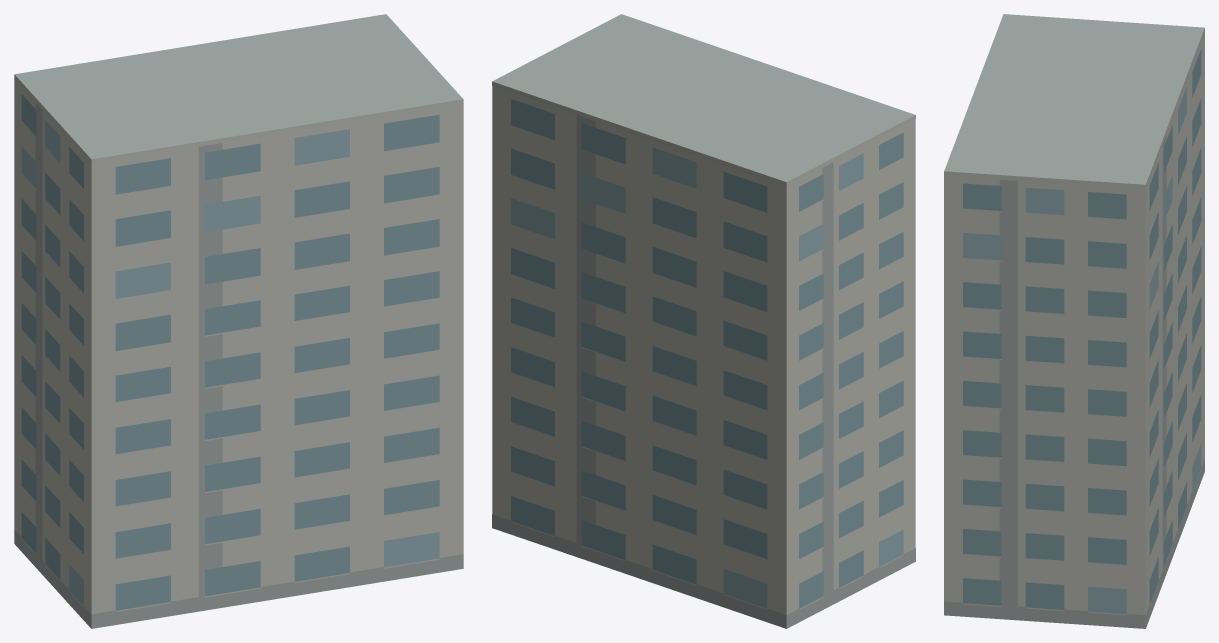
Rendered from residential-10277851-93be-4ff6-84cf-0546b14b9ec6.glb.
The picture shows the model from 3 angles, left to right: view 1: azimuth 30°, elevation 25°; view 2: azimuth 150°, elevation 25°; view 3: azimuth 270°, elevation 25°; orthographic projection. The views are drawn at different scales.
Parts seen in each view (by area): view 1: residential-10277851-93be-4ff6-84cf-0546b14b9ec6.tmp; view 2: residential-10277851-93be-4ff6-84cf-0546b14b9ec6.tmp; view 3: residential-10277851-93be-4ff6-84cf-0546b14b9ec6.tmp.
Part boxes in pixels (x1,y1,x2,y2): residential-10277851-93be-4ff6-84cf-0546b14b9ec6.tmp: [14, 14, 463, 628]; residential-10277851-93be-4ff6-84cf-0546b14b9ec6.tmp: [492, 14, 915, 628]; residential-10277851-93be-4ff6-84cf-0546b14b9ec6.tmp: [944, 14, 1204, 628].
Bounding box in the file's own units: 19.81 × 24 × 12.78.
